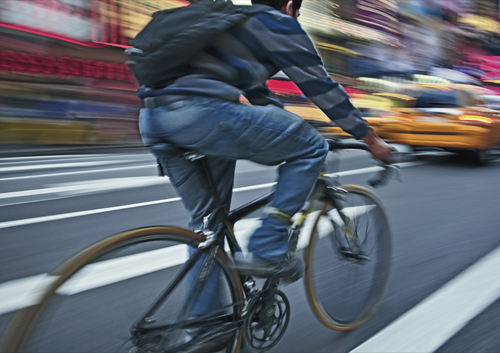bikerider: (21, 1, 412, 349)
